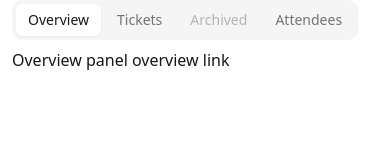
Tabs › selects on click
This screenshot has width=375, height=160.
Step 1. Click the tab "Attendees" → (309,20), box [263, 4, 354, 36]
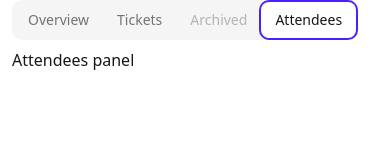
Expected: the text "Attendees panel" is shown, [12, 49, 134, 71]
